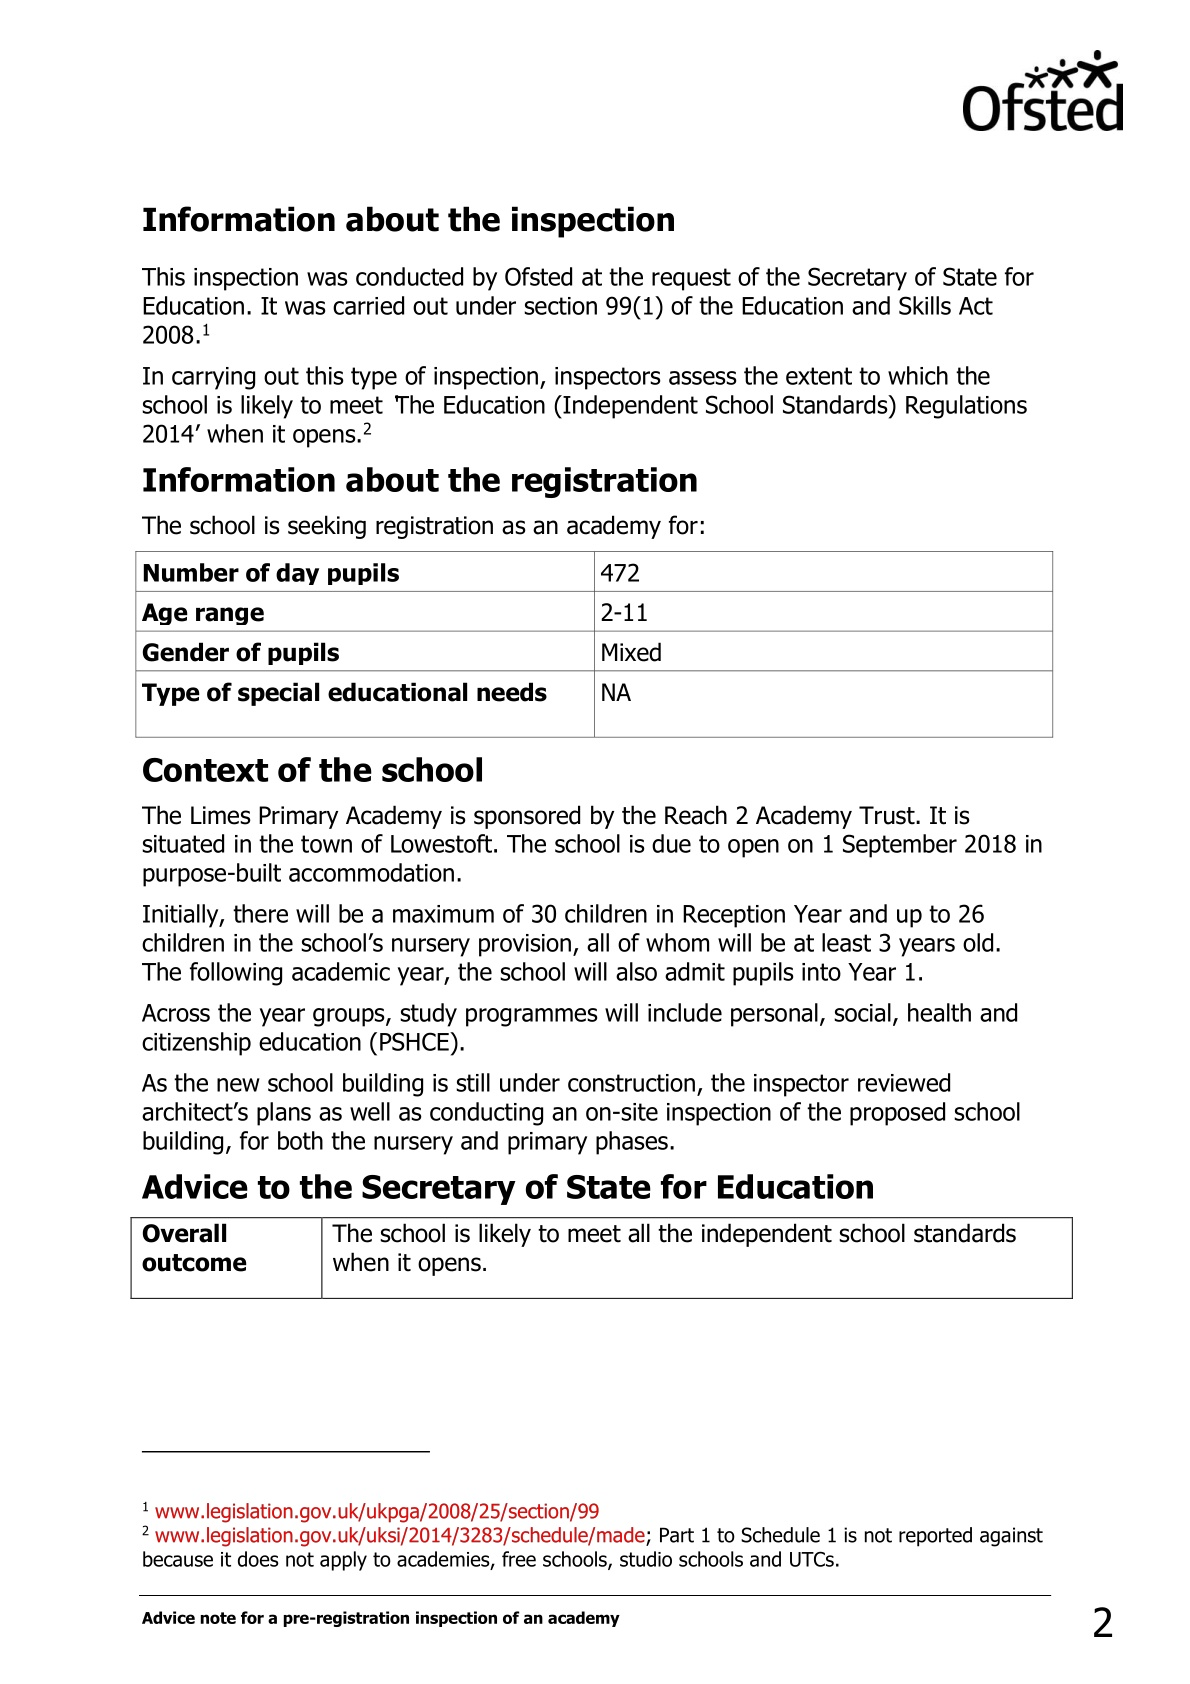full_lined: (135, 550, 1053, 738), (130, 1215, 1073, 1299)
